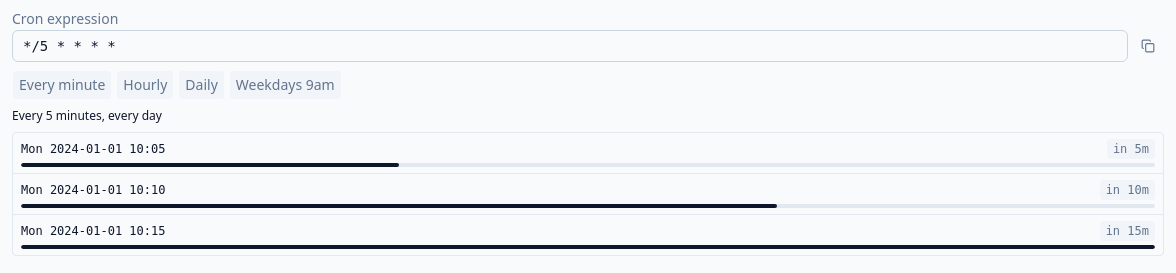
Test: CronWidget › shows a validation error for a malformed expression
Replace the text in the field labelled "Cron expression" with "* * * *" at (570, 46), box [12, 30, 1128, 62]
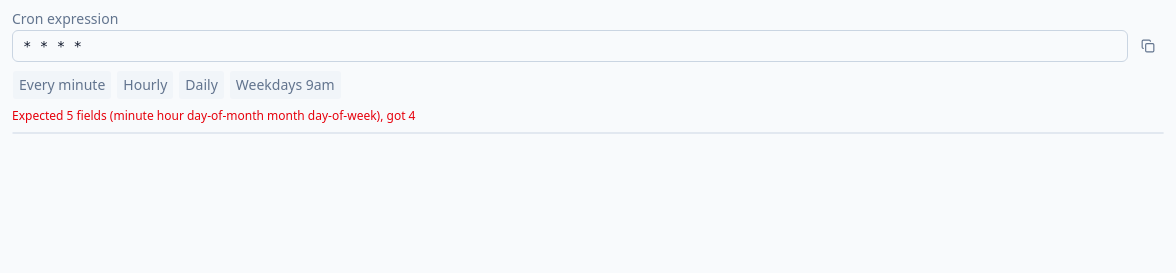
Expected: the text "Expected 5 fields" is shown, [12, 107, 416, 124]
